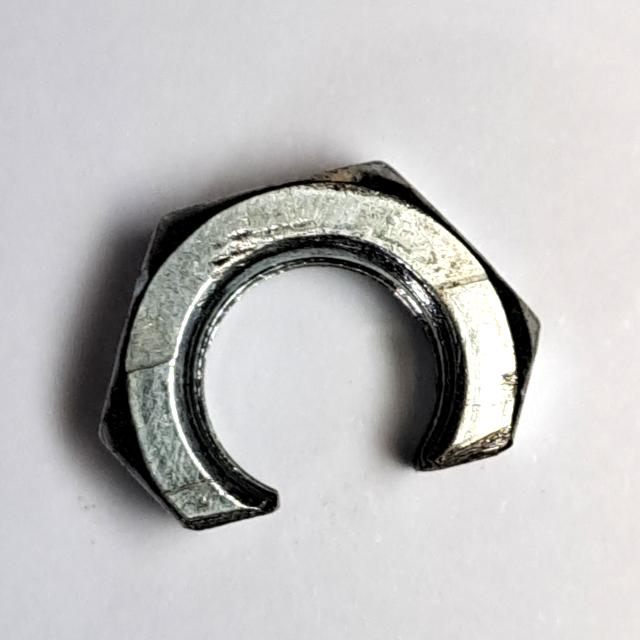Fracture: (89, 153, 553, 542)
